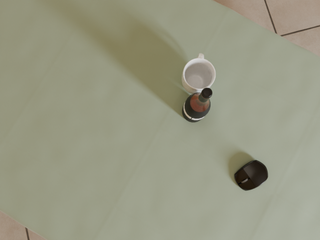bottle: (182, 88, 212, 122)
cup: (182, 53, 215, 94)
mouse: (235, 160, 268, 191)
